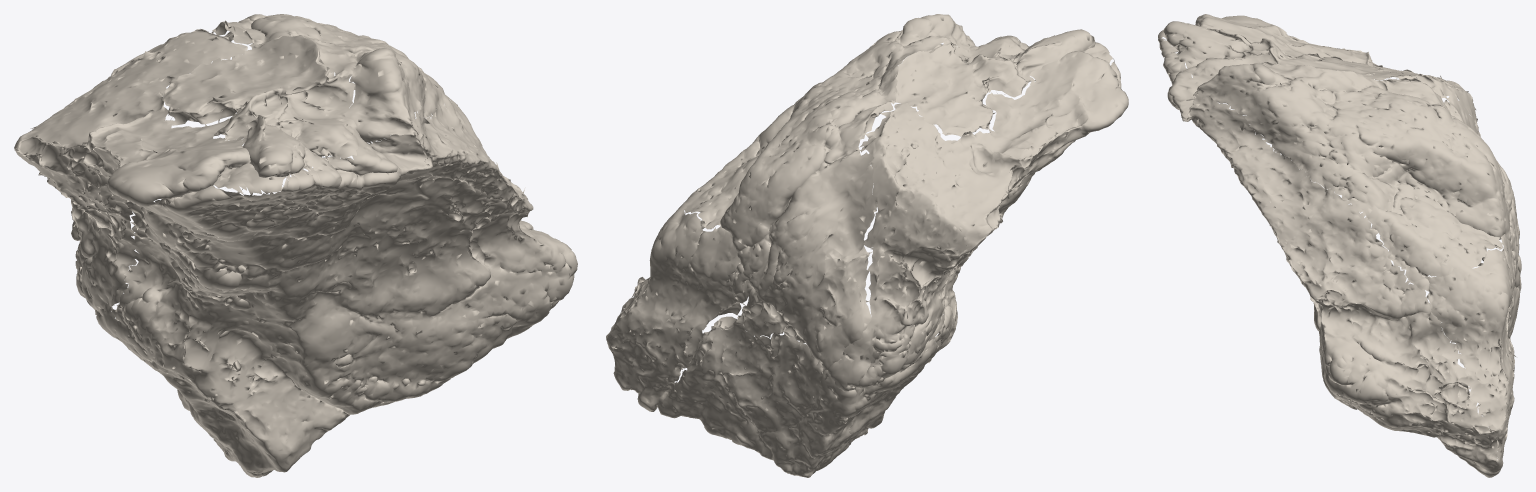
File: rock_17_cand00.glb
3 renders of one model, left to right at view 1: azimuth 30°, elevation 25°; view 2: azimuth 150°, elevation 25°; view 3: azimuth 270°, elevation 25°, orthographic. The views are drawn at different scales.
Visible parts, largest first — view 1: world; view 2: world; view 3: world.
Boxes of the visible parts, x1=… form: world: x1=14, y1=14, x2=577, y2=477; world: x1=606, y1=14, x2=1128, y2=477; world: x1=1158, y1=14, x2=1521, y2=477.
Size of the model in its own units: 1.64 by 1.52 by 1.34.
